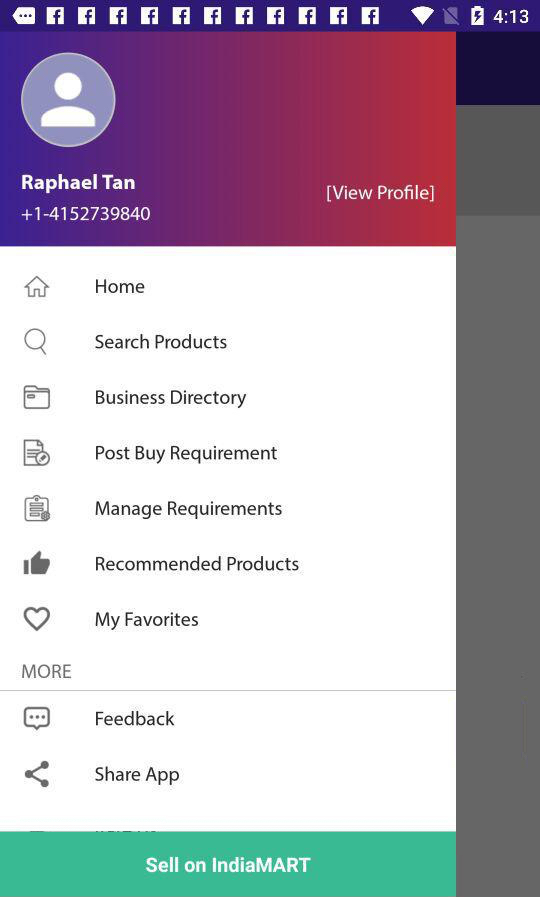Drawer: (1, 33, 456, 897)
Icon: (21, 52, 117, 149), (23, 439, 52, 467), (24, 495, 52, 523), (25, 760, 51, 788), (24, 606, 52, 632), (24, 706, 52, 731), (24, 385, 52, 410), (24, 328, 48, 356), (24, 276, 51, 299)
Image: (24, 550, 52, 576)
Text: (95, 500, 283, 521), (96, 555, 300, 573), (96, 445, 278, 465), (96, 389, 247, 409), (22, 174, 137, 195), (95, 334, 228, 351), (21, 206, 152, 223), (96, 611, 200, 632), (326, 184, 435, 204), (96, 765, 180, 786), (96, 710, 176, 727), (22, 663, 73, 680), (96, 278, 146, 294)
TextButton: (1, 832, 456, 897)
UpperTaskBar: (1, 1, 540, 33)
